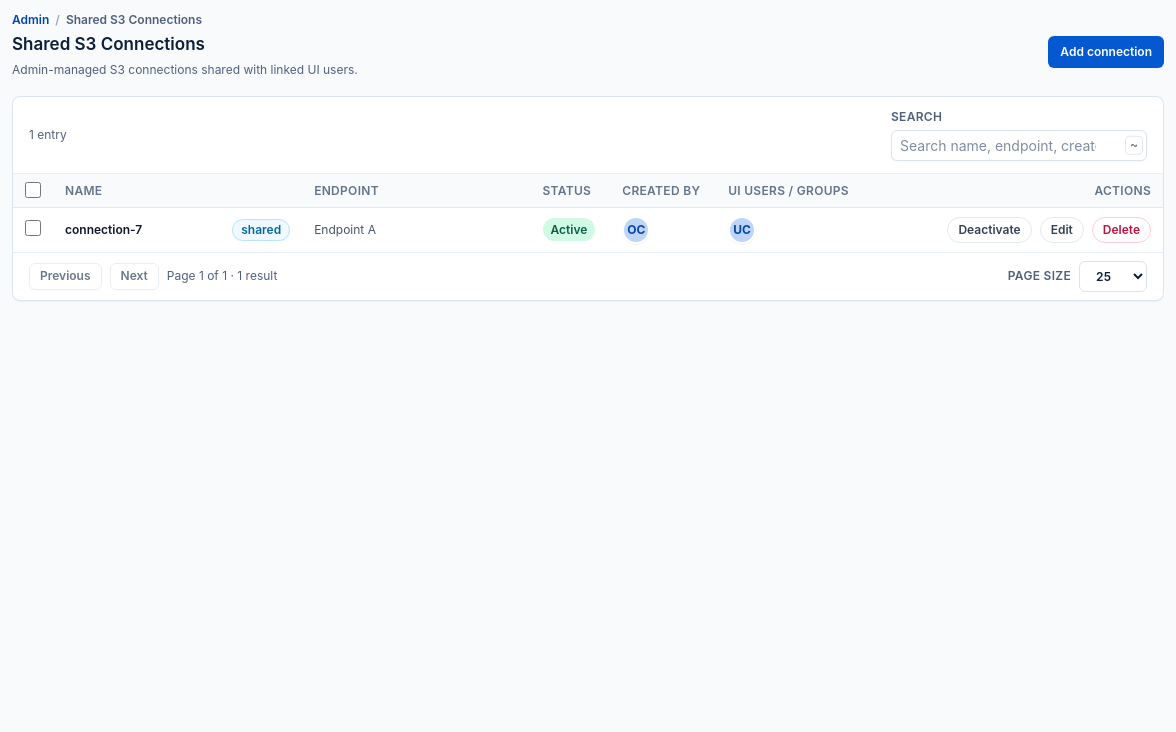
Test case: S3ConnectionsPage modal tabs › hides provider for admin connections using an existing endpoint
Expected: the text "connection-7" is shown, [65,222,142,237]
Click the button "Edit": click(1062, 230) [1040,217,1084,243]
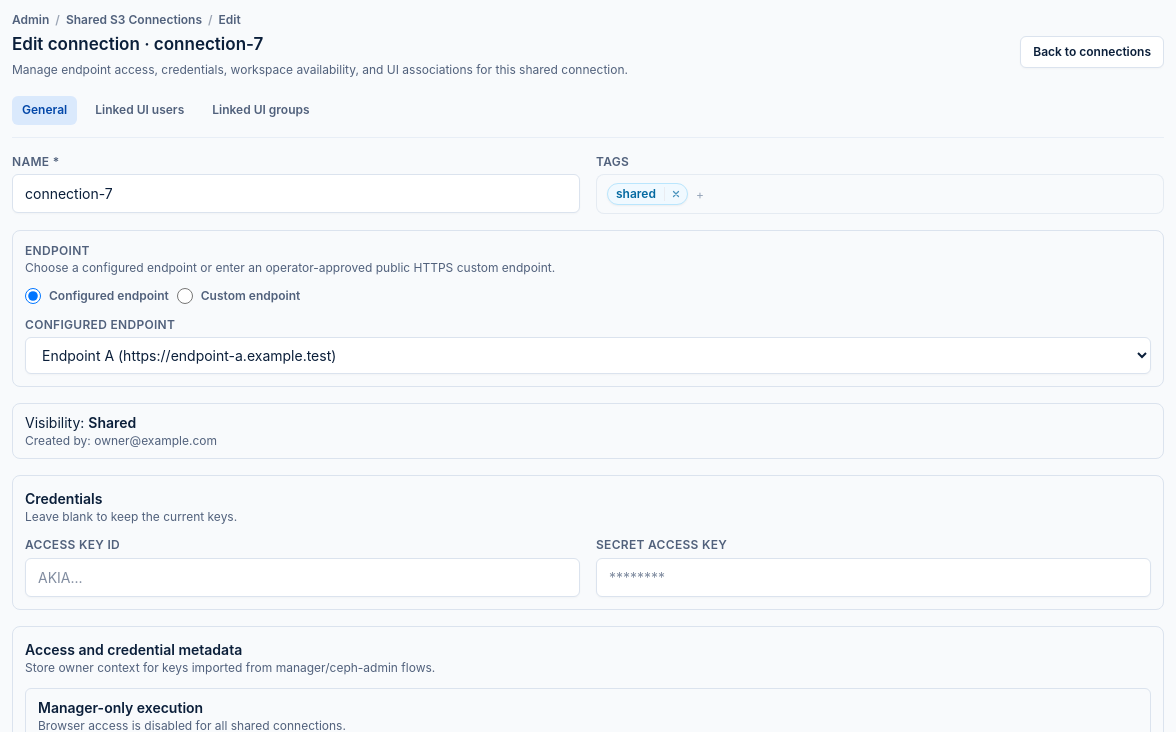
Now the text "Endpoint" is shown, box [25,243,90,258]
Now the radio button labelled "Configured endpoint" is checked, box [25,288,41,304]
Now the radio button labelled "Custom endpoint" is not checked, box [177,288,193,304]
